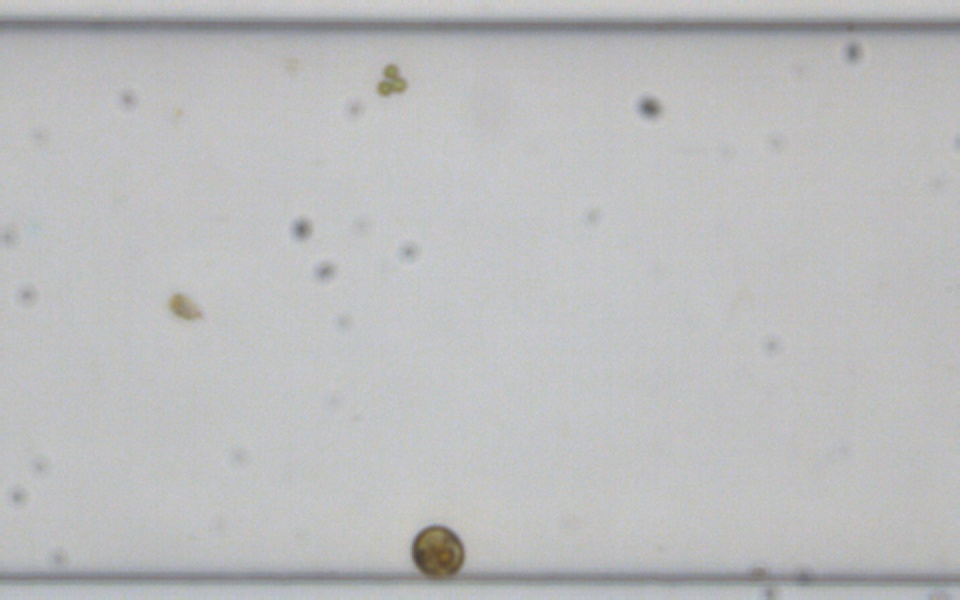Chlorella: (376, 79, 394, 96), (381, 63, 398, 78), (390, 76, 405, 91)
Dunaliella salina: (166, 290, 202, 319)
Effrenium: (406, 521, 467, 579)
